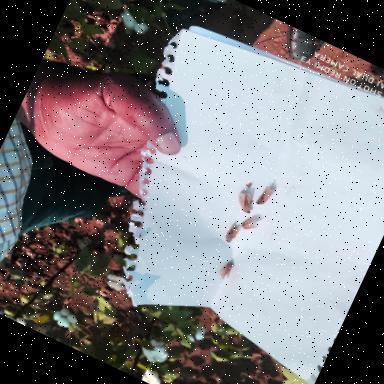abw: (253, 181, 278, 211), (232, 189, 258, 217), (236, 210, 262, 236), (216, 258, 238, 284), (222, 220, 243, 246)
